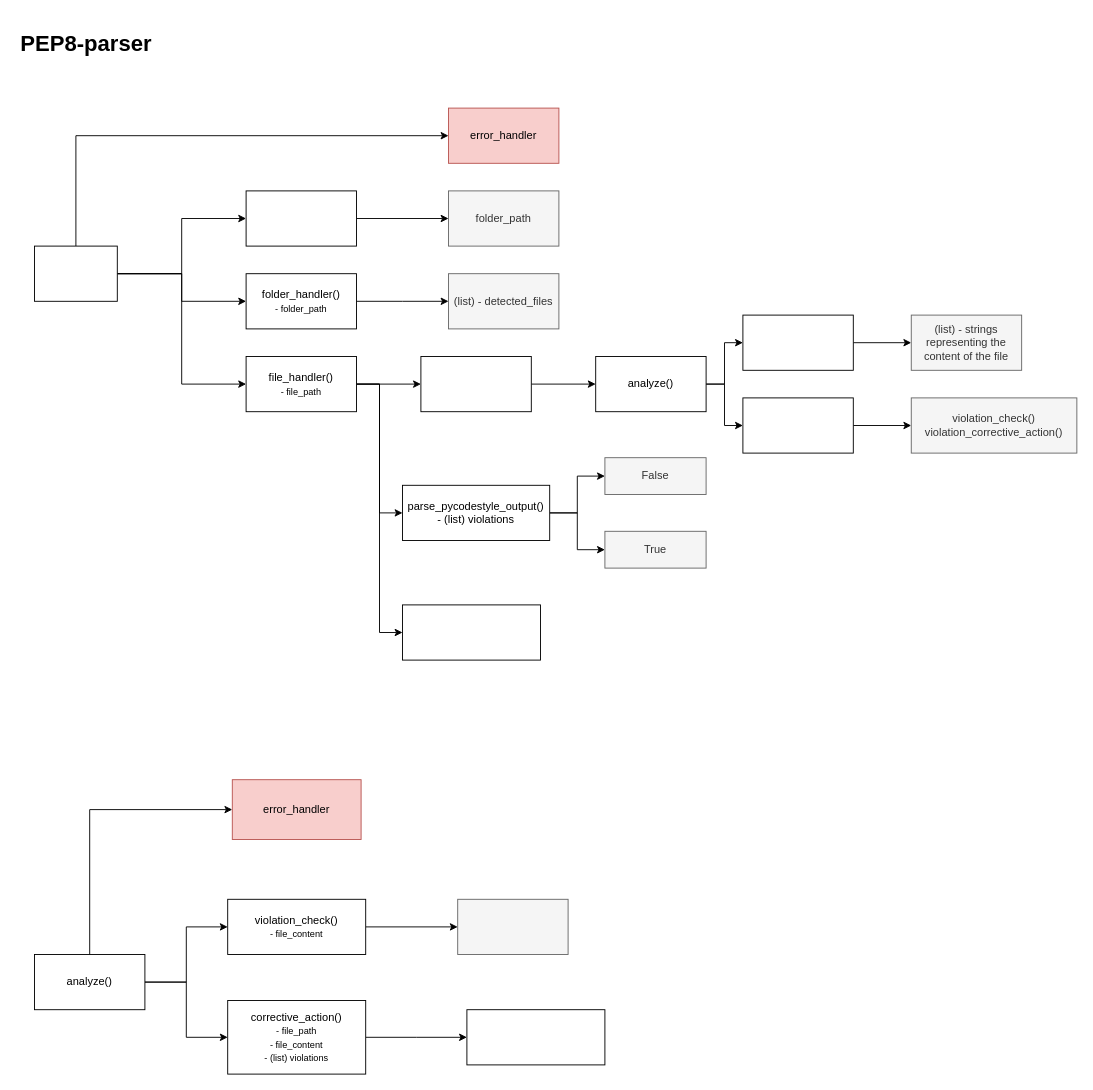
This 1093x1090 diagram has some shape labels left out. Here are the shapes that lost their labels. From the top down, the centre of each, then its label:
At (300,218): "get_folder_locaton()".
At (75,273): "main()".
At (797,342): "get_file_content() - file_path".
At (475,384): "run_pycodestyle()".
At (797,425): "get_execution_list()".
At (471,632): "file_open() - file_path".
At (512,926): "(list) - violations or None".
At (535,1037): "write_to_file() - file_content".
